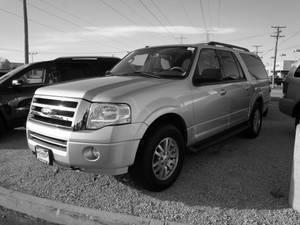car: (24, 41, 277, 198)
